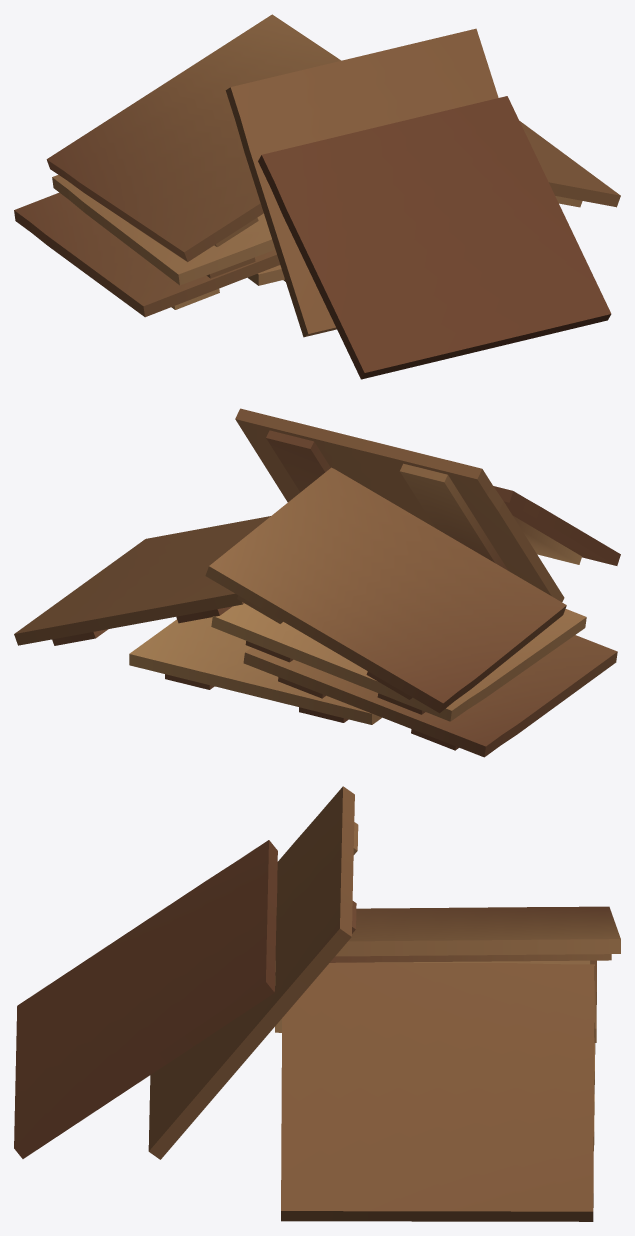
The model's file is Multiple Tall Messy Light Crate Lids.fbx.
3 renders of one model, top to bottom at view 1: azimuth 30°, elevation 25°; view 2: azimuth 150°, elevation 25°; view 3: azimuth 270°, elevation 25°, orthographic. The views are drawn at different scales.
Parts seen in each view (by area): view 1: Multiple Tall Messy Light Crate Lids; view 2: Multiple Tall Messy Light Crate Lids; view 3: Multiple Tall Messy Light Crate Lids.
Part boxes in pixels (x1,y1,x2,y2): Multiple Tall Messy Light Crate Lids: (14,14,620,379); Multiple Tall Messy Light Crate Lids: (14,408,620,757); Multiple Tall Messy Light Crate Lids: (14,786,620,1221).
Size of the model in its own units: 174 by 405 by 438.
Materials: 1 (1 with a texture image).
